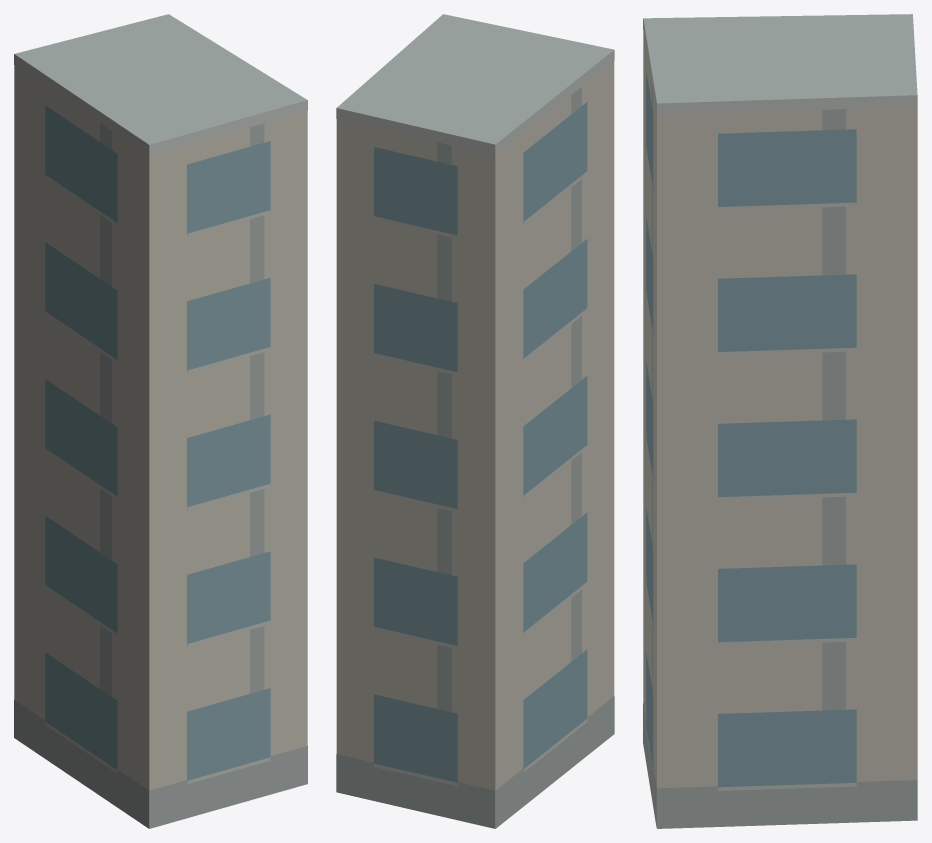
Rendered from survey-upis-32980205.glb.
3 views of the same model, side by side, from view 1: azimuth 30°, elevation 25°; view 2: azimuth 150°, elevation 25°; view 3: azimuth 270°, elevation 25° (orthographic). The views are drawn at different scales.
Parts seen in each view (by area): view 1: survey-upis-32980205.tmp; view 2: survey-upis-32980205.tmp; view 3: survey-upis-32980205.tmp.
Part boxes in pixels (left/top/right/bottom): survey-upis-32980205.tmp: left=14, top=14, right=307, bottom=828; survey-upis-32980205.tmp: left=336, top=14, right=614, bottom=828; survey-upis-32980205.tmp: left=643, top=14, right=917, bottom=828.
Size of the model in its own units: 4.04 by 15.25 by 5.24.
